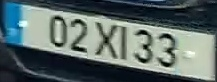0: (47, 13, 68, 49)
2: (68, 17, 89, 55)
3: (131, 27, 155, 65), (154, 31, 177, 69)
I: (118, 25, 128, 61)
X: (92, 19, 120, 61)
